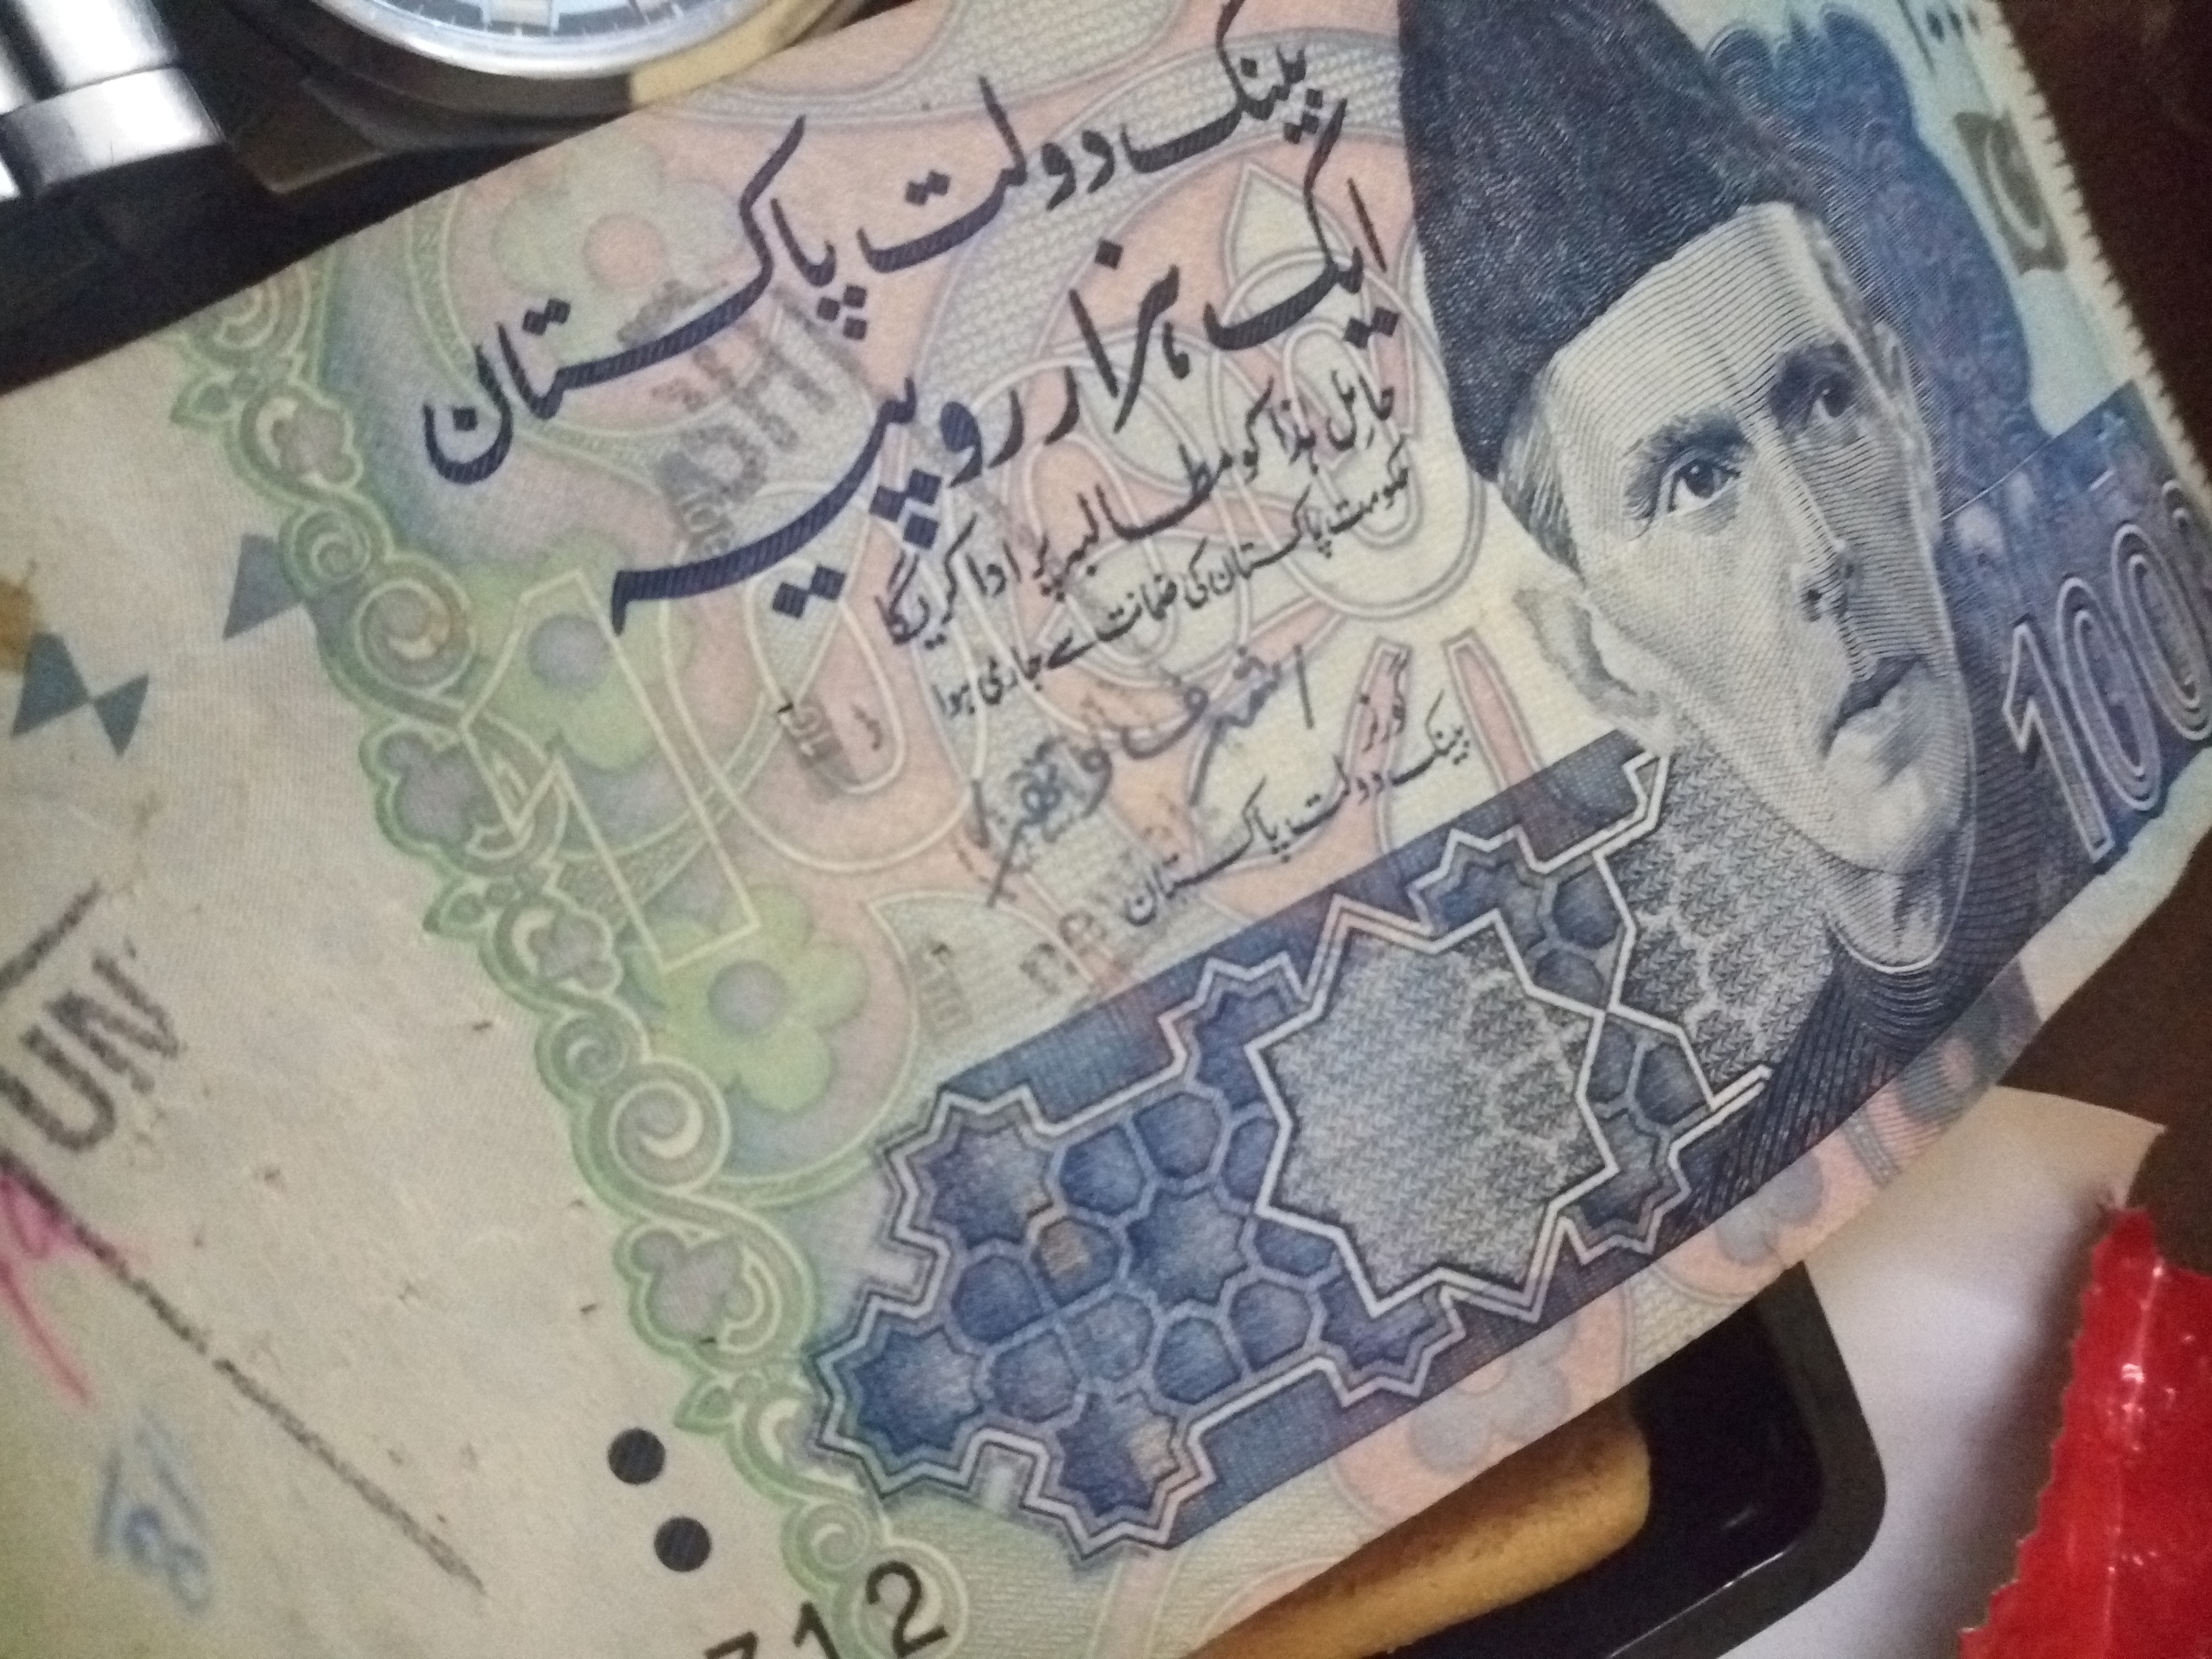1000 rupee: (40, 28, 2212, 1649)
